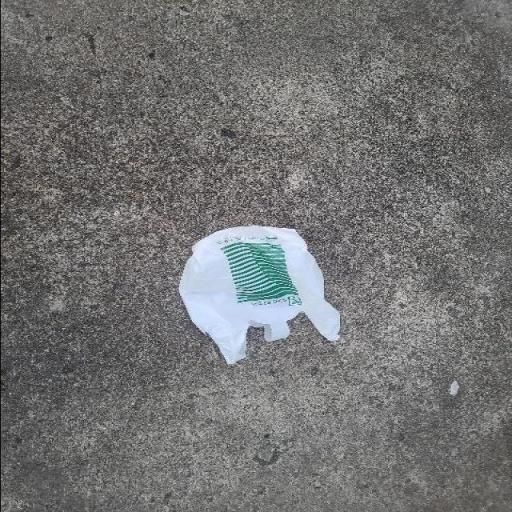plastic-bag: (176, 224, 343, 363)
